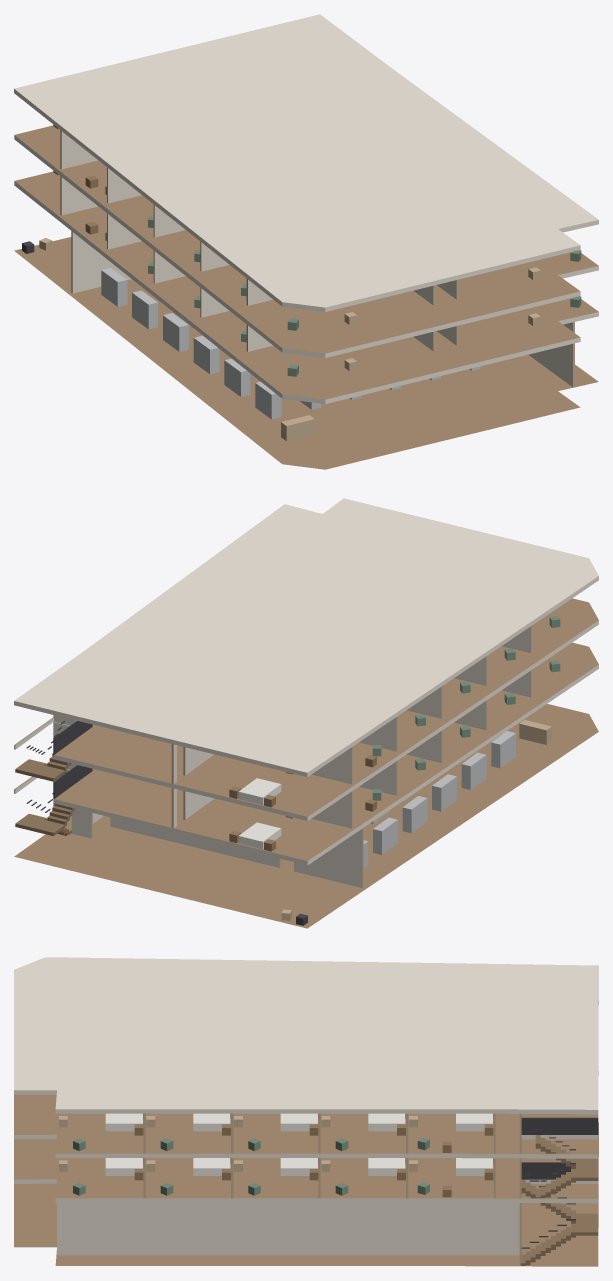
Rendered from interior.glb.
The picture shows the model from 3 angles, top to bottom: view 1: azimuth 30°, elevation 25°; view 2: azimuth 150°, elevation 25°; view 3: azimuth 270°, elevation 25°; orthographic projection. The views are drawn at different scales.
Parts seen in each view (by area): view 1: slabs, partitions, coarse-s0, coarse-s1, coarse-s2; view 2: slabs, partitions, coarse-s0, stair, coarse-s1, coarse-s2; view 3: slabs, partitions, stair, coarse-s2, coarse-s1.
Part boxes in pixels (x1,y1,x2,y2): slabs: [14, 14, 598, 469]; partitions: [60, 130, 574, 387]; coarse-s0: [22, 238, 480, 441]; coarse-s1: [53, 171, 581, 376]; coarse-s2: [53, 125, 581, 330]; slabs: [14, 498, 598, 928]; partitions: [53, 625, 532, 887]; coarse-s0: [281, 720, 551, 925]; stair: [15, 721, 92, 836]; coarse-s1: [229, 660, 560, 851]; coarse-s2: [229, 616, 560, 807]; slabs: [14, 957, 598, 1266]; partitions: [57, 1113, 521, 1265]; stair: [520, 1117, 598, 1265]; coarse-s2: [59, 1113, 493, 1152]; coarse-s1: [59, 1158, 493, 1197].
Bounding box in the file's own units: 19.41 × 9.32 × 31.42.
